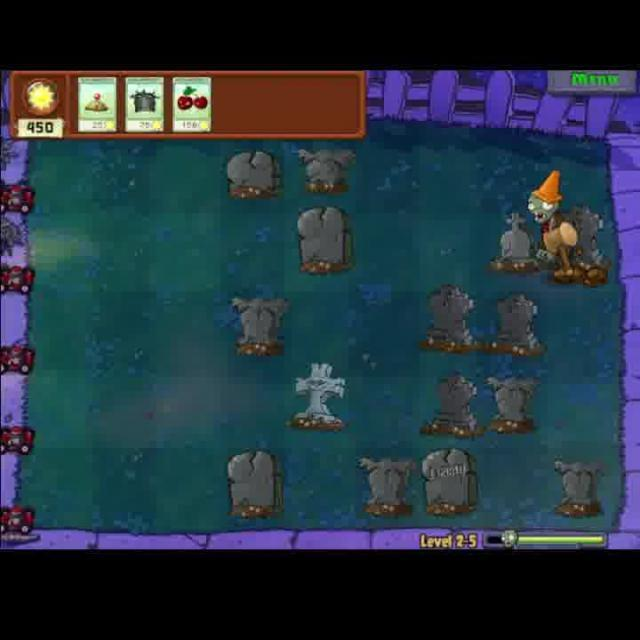zombies: (524, 166, 580, 279)
